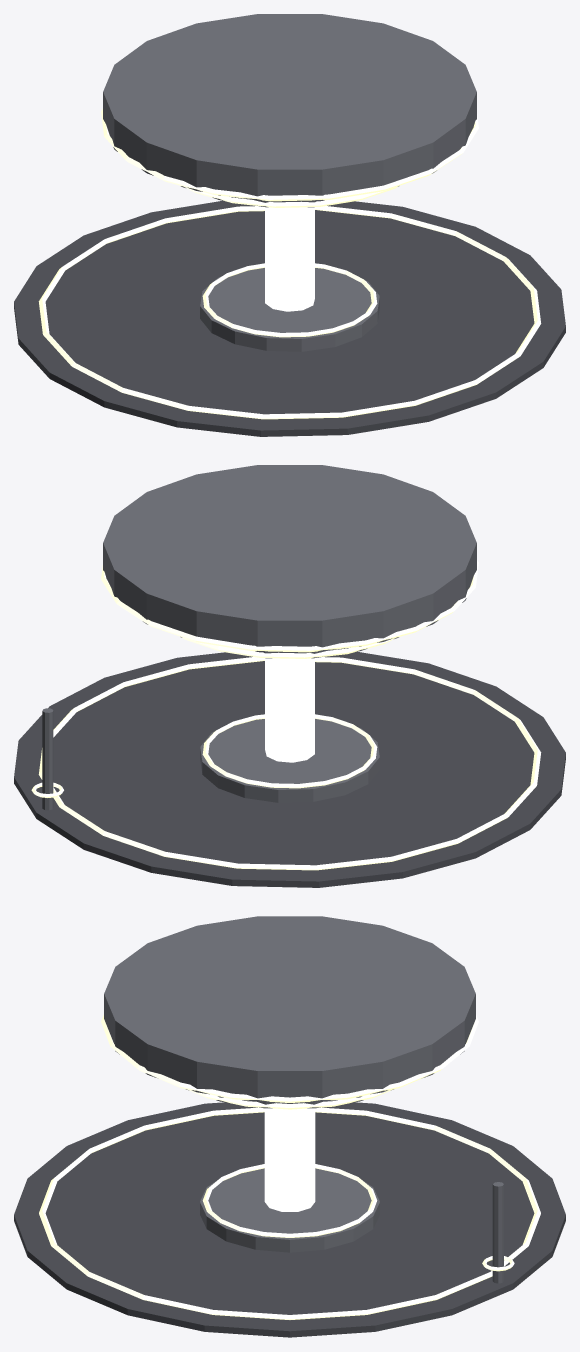
The model's file is zone_low_5_t1.glb.
The picture shows the model from 3 angles, top to bottom: view 1: azimuth 30°, elevation 25°; view 2: azimuth 150°, elevation 25°; view 3: azimuth 270°, elevation 25°; orthographic projection.
Visible parts, largest first — view 1: zone_low_5_t1, detail; view 2: zone_low_5_t1, detail; view 3: zone_low_5_t1, detail.
Part boxes in pixels (<box>): zone_low_5_t1: <box>14,14,565,436</box>; detail: <box>38,206,541,419</box>; zone_low_5_t1: <box>14,465,565,887</box>; detail: <box>31,657,541,870</box>; zone_low_5_t1: <box>14,916,565,1337</box>; detail: <box>39,1107,540,1319</box>.
Size of the model in its own units: 19.6 by 8.9 by 19.6.
